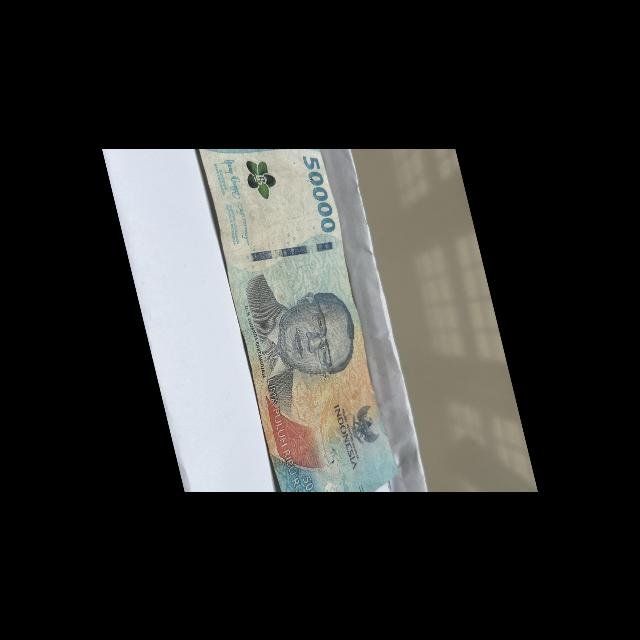Palsu-50k: (193, 118, 404, 504)
Tinta-Palsu-50k: (245, 157, 278, 201)
